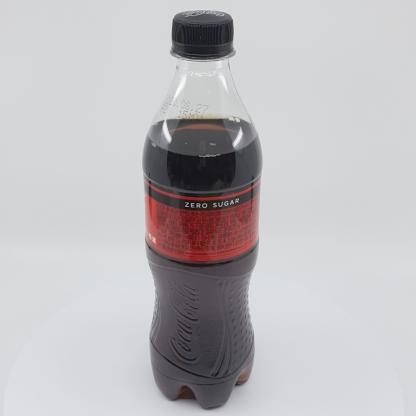------500ML: (142, 10, 262, 408)
